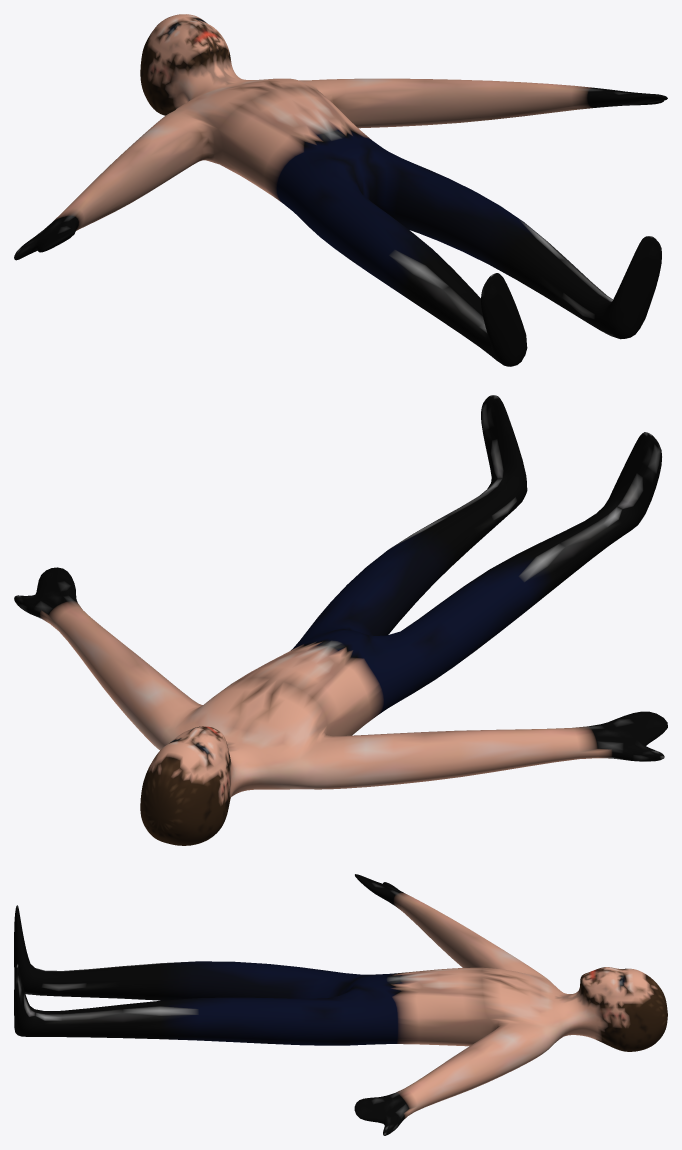
File: test_character.fbx
3 renders of one model, top to bottom at view 1: azimuth 30°, elevation 25°; view 2: azimuth 150°, elevation 25°; view 3: azimuth 270°, elevation 25°, orthographic. The views are drawn at different scales.
Parts seen in each view (by area): view 1: Manikin; view 2: Manikin; view 3: Manikin.
Part boxes in pixels (left/top/right/bottom): Manikin: left=14, top=14, right=667, bottom=366; Manikin: left=14, top=395, right=667, bottom=845; Manikin: left=14, top=874, right=667, bottom=1135.
Bounding box in the file's own units: 1564 × 322 × 1724.
